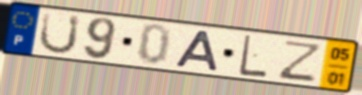0: (137, 23, 174, 67)
9: (80, 16, 121, 61)
A: (173, 29, 221, 73)
L: (237, 33, 269, 79)
U: (36, 10, 82, 56)
Z: (276, 39, 325, 84)
